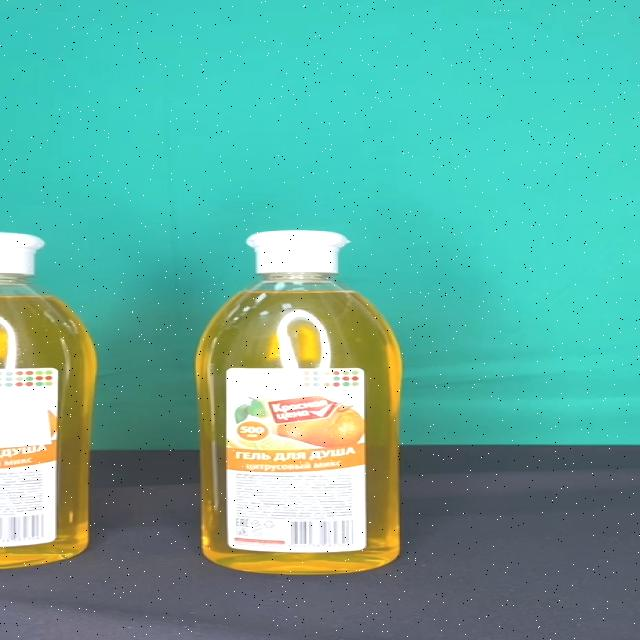Bottle: (194, 229, 406, 575)
Cap: (247, 231, 351, 273)
